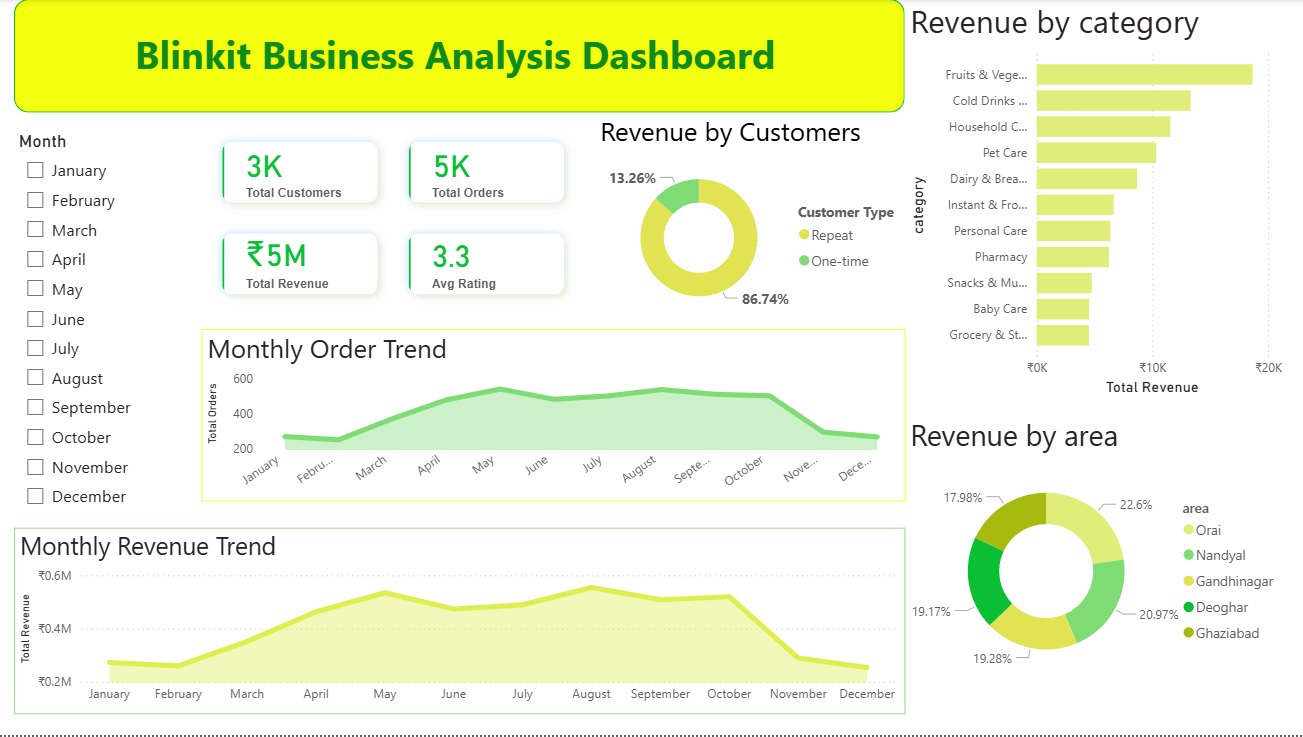

What the dashboard file says about the page in this screenshot:
{"tool":"powerbi","page":{"name":"Page 1","canvas":[1280,720],"ordinal":0},"visuals":[{"type":"cardVisual","fields":{"Data":["key measures.total customers","key measures.total orders","key measures.total revenue","key measures.Average Rating"]},"box":[189.5,111.3,393.8,206.7],"z":0},{"type":"donutChart","title":"Revenue by area","fields":{"Category":["blinkit_customers.area"],"Y":["key measures.Total Revenue"]},"box":[886.6,407.2,374.2,267.8],"z":1000},{"type":"lineChart","title":"Monthly Revenue Trend","fields":{"Category":["blinkit_orders.actual_delivery_time.Variation.Date Hierarchy.Year","blinkit_orders.actual_delivery_time.Variation.Date Hierarchy.Month"],"Y":["key measures.Total Revenue"]},"box":[14.7,517.3,871.9,182.2],"z":2000},{"type":"barChart","title":"Revenue by category","fields":{"Category":["blinkit_products.category"],"Y":["key measures.Total Revenue"]},"box":[886.6,0,374.2,392.5],"z":3000},{"type":"lineChart","title":"Monthly Order Trend","fields":{"Category":["blinkit_orders.actual_delivery_time.Variation.Date Hierarchy.Year","blinkit_orders.actual_delivery_time.Variation.Date Hierarchy.Month"],"Y":["key measures.Total Orders"]},"box":[198.1,322.8,688.5,168.8],"z":4000},{"type":"donutChart","title":"Revenue by Customers","fields":{"Category":["blinkit_customers.Customer Type"],"Y":["key measures.Total Revenue"]},"box":[583.2,111.1,303.3,211.3],"z":5000},{"type":"shape","box":[15.1,0,871.4,111.1],"z":6000},{"type":"textbox","box":[15.1,23.3,871.4,64.5],"z":7000},{"type":"slicer","title":"Month","fields":{"Values":["blinkit_orders.order_date.Variation.Date Hierarchy.Month"]},"box":[14.7,128.4,140.6,379.1],"z":8001}]}

Visuals, with their boxes in screenshot pixels (x1, y1, x2, y2), scaled from the page's 1280x720 canvas onto the 1303x737 screenshot:
cardVisual - key measures.total customers x key measures.total orders: {"left": 193, "top": 114, "right": 594, "bottom": 326}
"Revenue by area" donutChart: {"left": 903, "top": 417, "right": 1283, "bottom": 691}
"Monthly Revenue Trend" lineChart: {"left": 15, "top": 530, "right": 903, "bottom": 716}
"Revenue by category" barChart: {"left": 903, "top": 0, "right": 1283, "bottom": 402}
"Monthly Order Trend" lineChart: {"left": 202, "top": 330, "right": 903, "bottom": 503}
"Revenue by Customers" donutChart: {"left": 594, "top": 114, "right": 902, "bottom": 330}
shape: {"left": 15, "top": 0, "right": 902, "bottom": 114}
textbox: {"left": 15, "top": 24, "right": 902, "bottom": 90}
"Month" slicer: {"left": 15, "top": 131, "right": 158, "bottom": 519}
